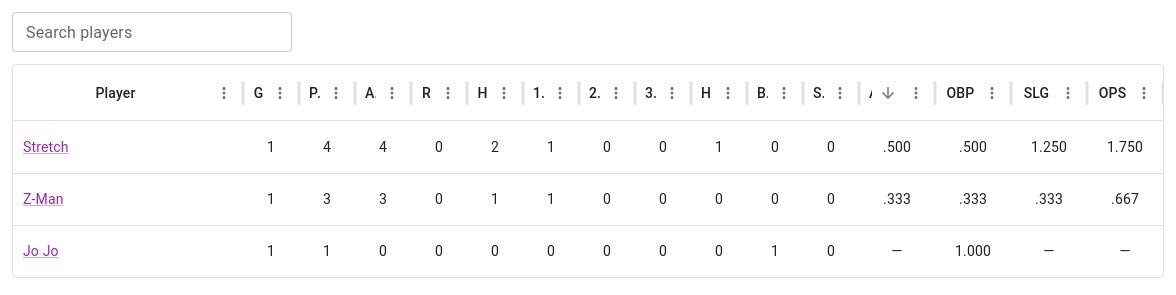
Scenario: StatsGrid — mobile cards › shows an empty state when the search matches no players
In the field labelled "Search players": {"x": 152, "y": 32} 12,12 -> 292,52, type "nobody"
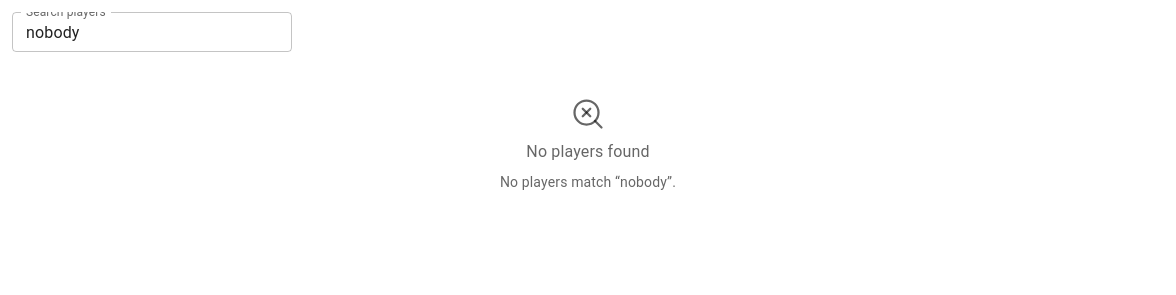
Expected: the text "No players found" is shown, 526,140 -> 650,164
